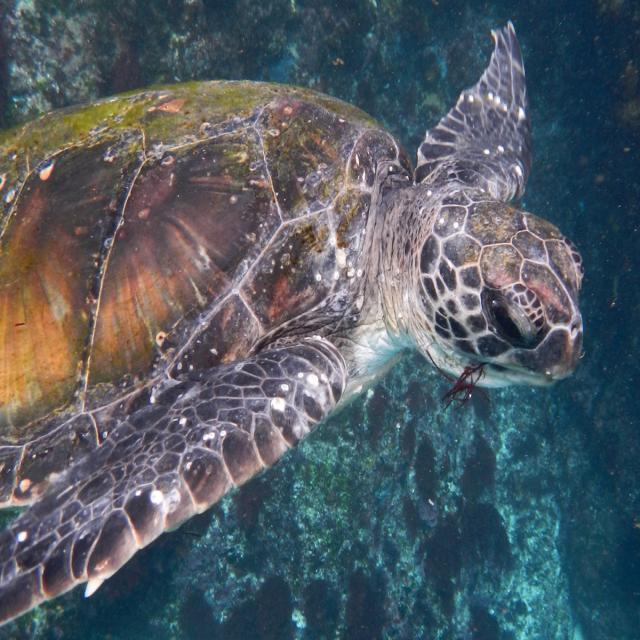sea turtle: (1, 67, 402, 429), (1, 352, 208, 634), (402, 186, 604, 408), (402, 13, 560, 176)
